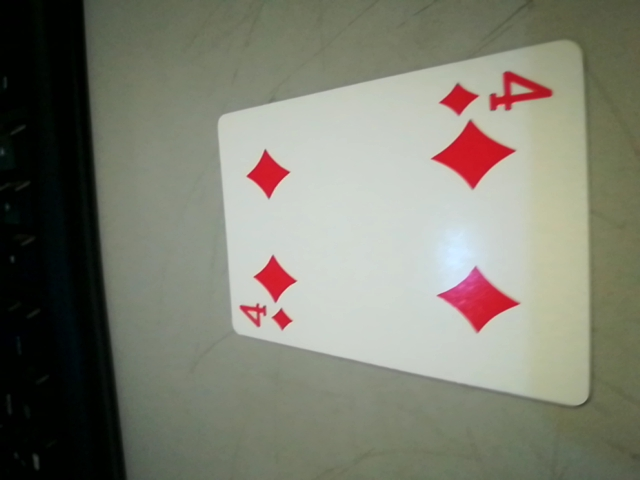fk 4: (434, 69, 559, 121)
